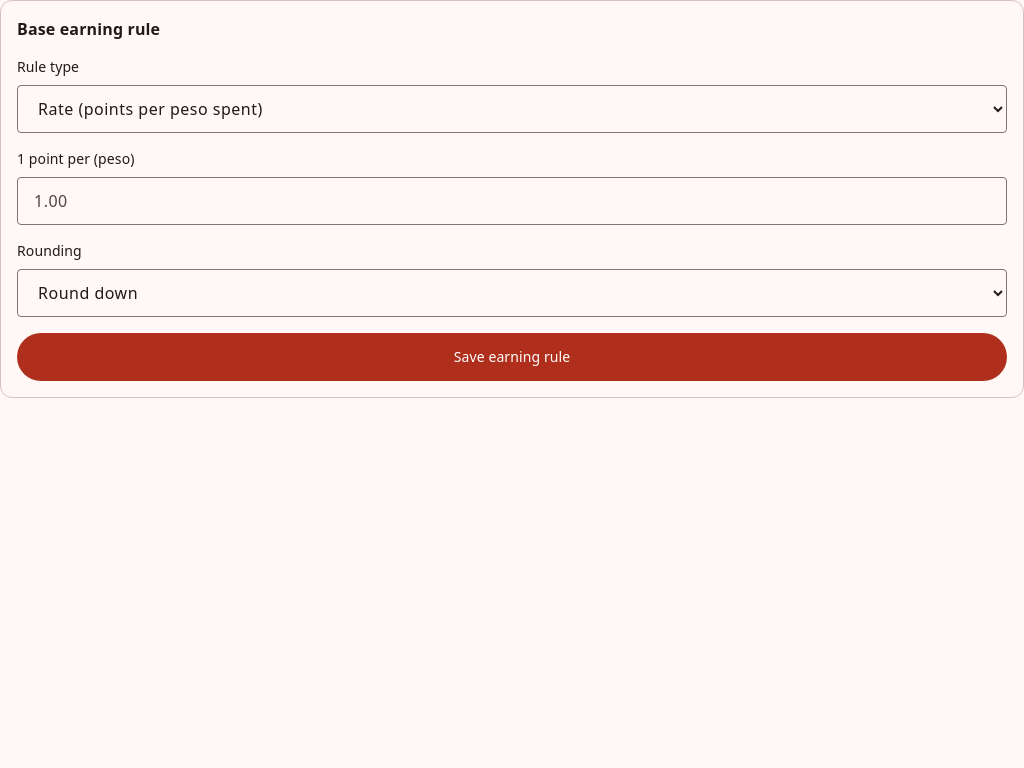
Test: EarningRuleCard receipt preview › follows the rounding mode the merchant has selected
The image size is (1024, 768).
In the field labelled "1 point per (peso)": (512, 201) [17,177,1007,225], type "7"
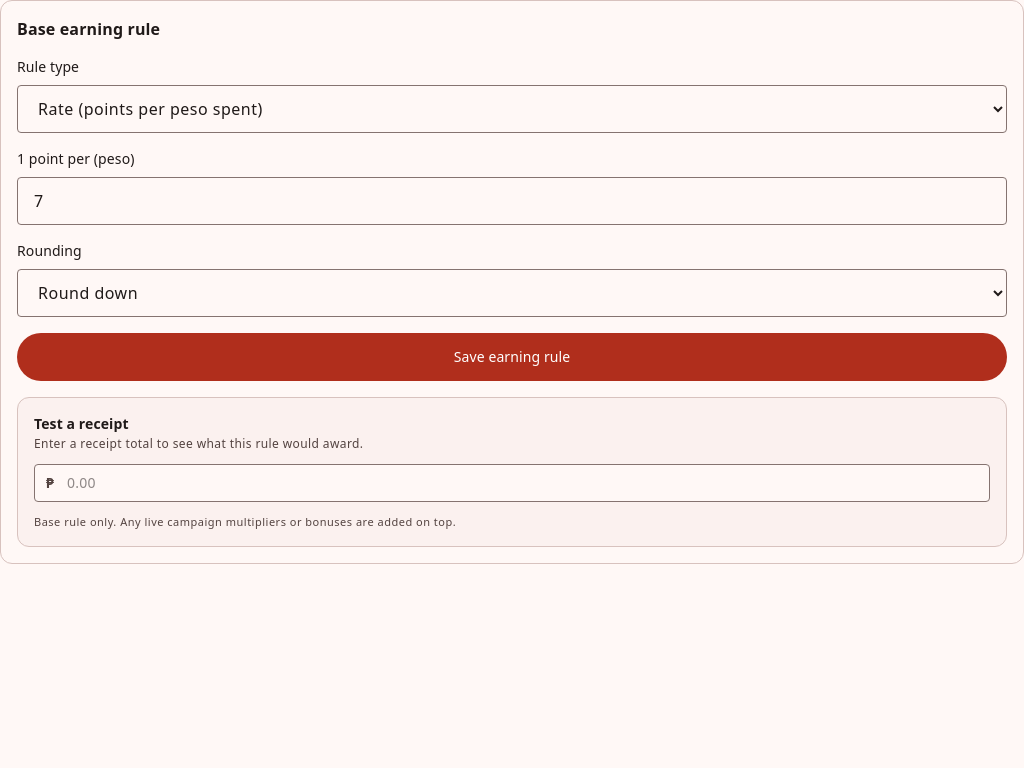
Select "Round up" in the dropdown labelled "Rounding": (512, 293) [17,269,1007,317]
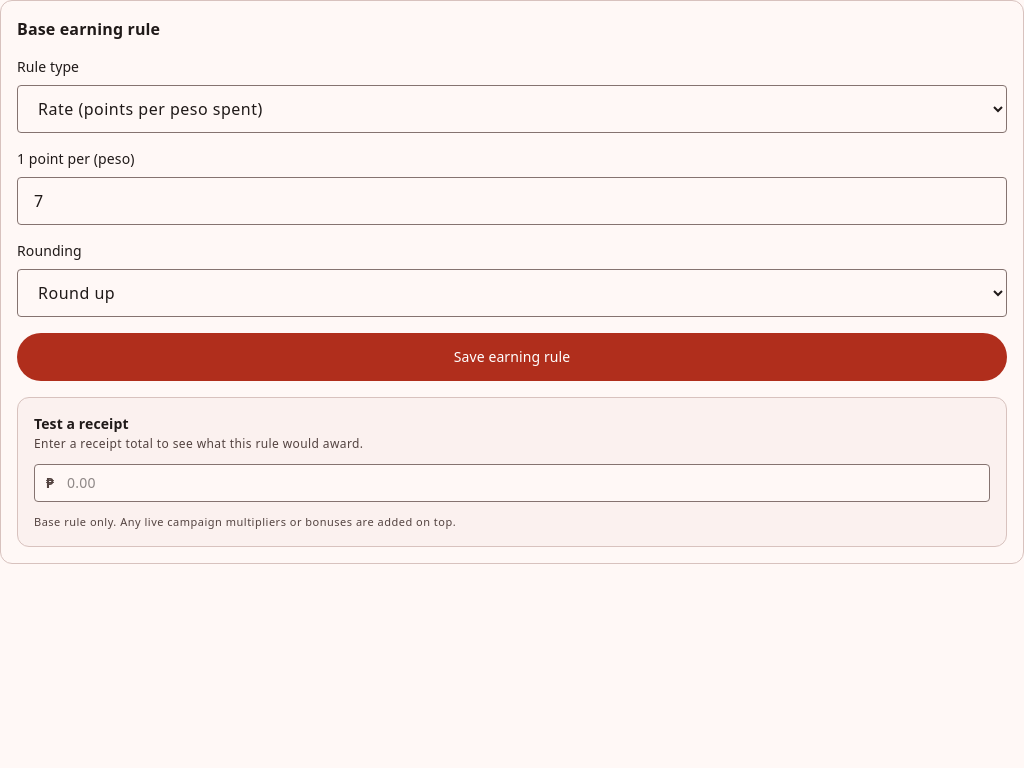
In the number field named "Receipt total in pesos": (512, 483) [34,464,990,502], type "100"
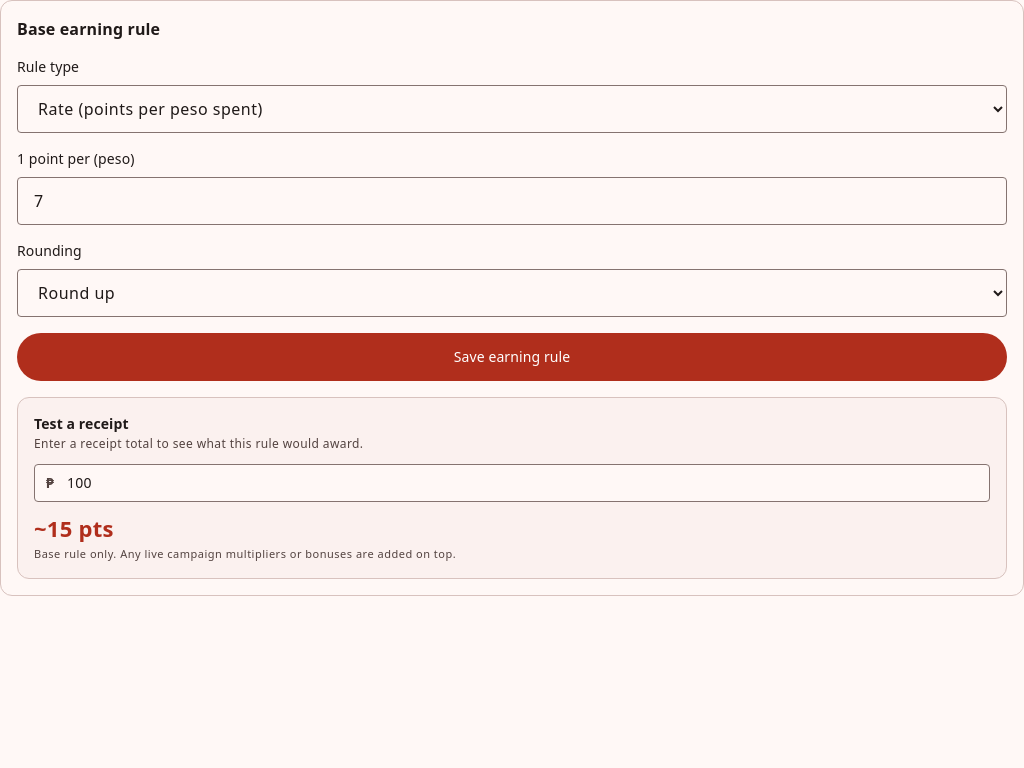
Now the text "~15 pts" is shown, box [34,513,114,543]
